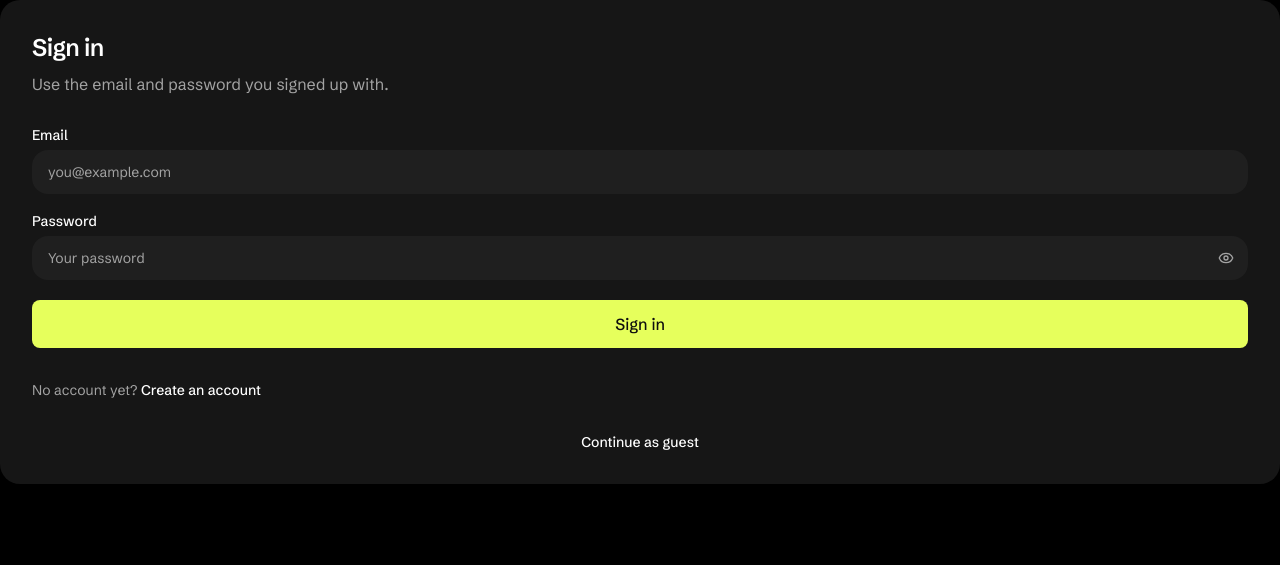
Test: SignInForm › shows the backend's message and keeps what was typed
Type "ada@example.com" into the field labelled "Email".
click(640, 172); type("ada@example.com")  # box [32,150,1248,194]
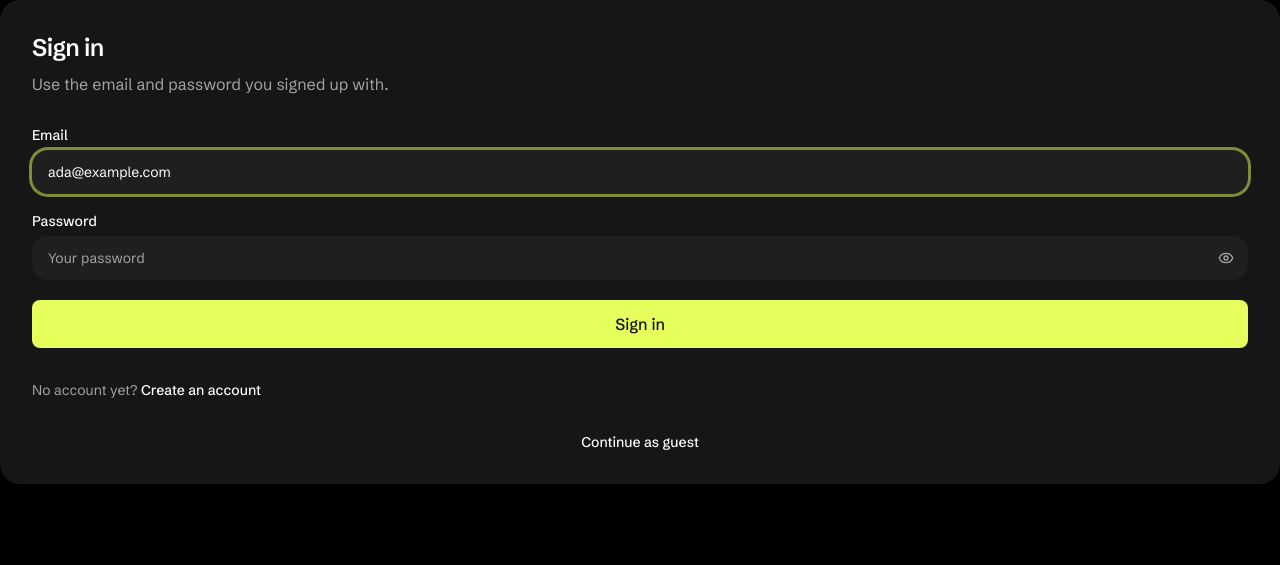
Type "wrong horse" into the password field labelled "Password".
click(640, 258); type("wrong horse")  # box [32,236,1248,280]
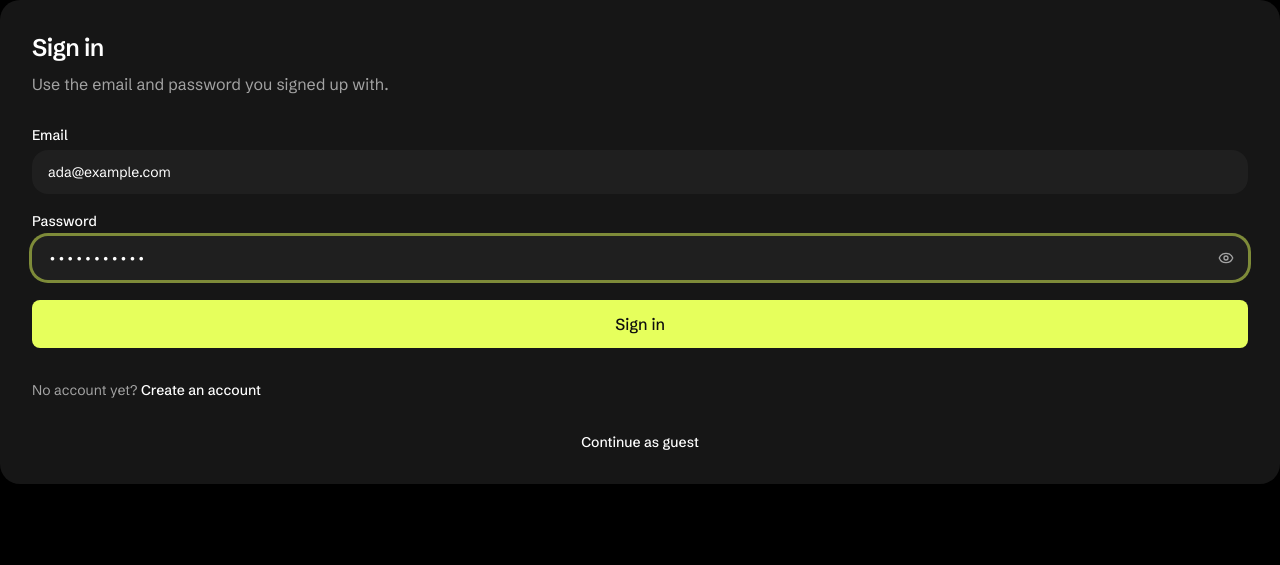
Click the button "Sign in".
click(640, 324)  # box [32,300,1248,348]
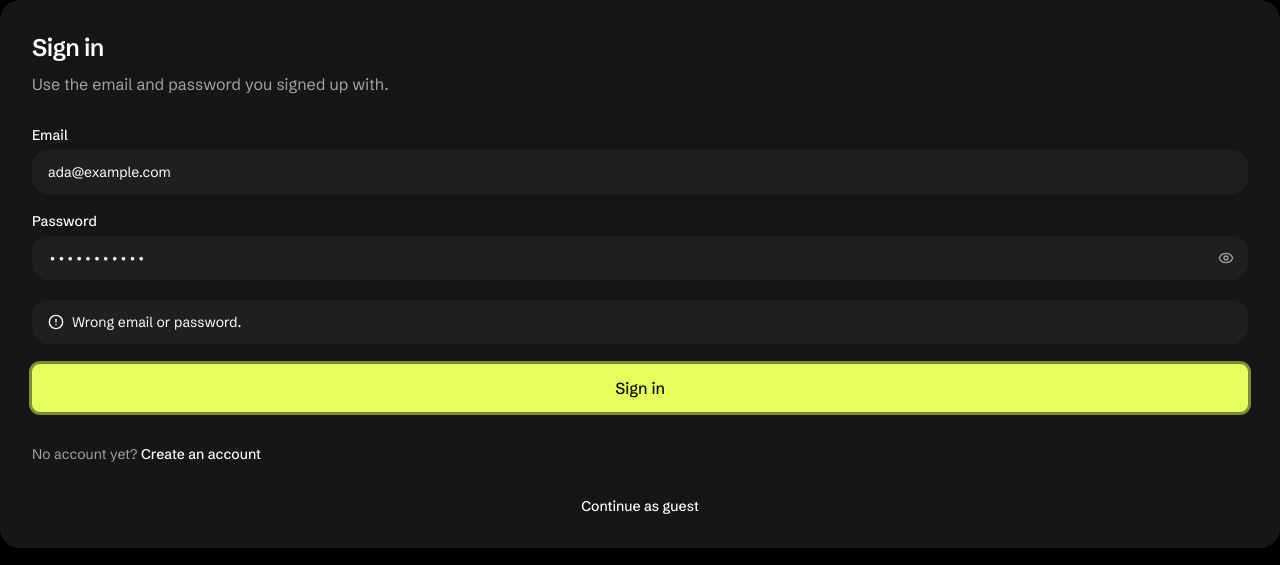
Expected: the button "Sign in" is enabled, [32,364,1248,412]
Expected: the message reads "Wrong email or password.", [72,313,242,331]
